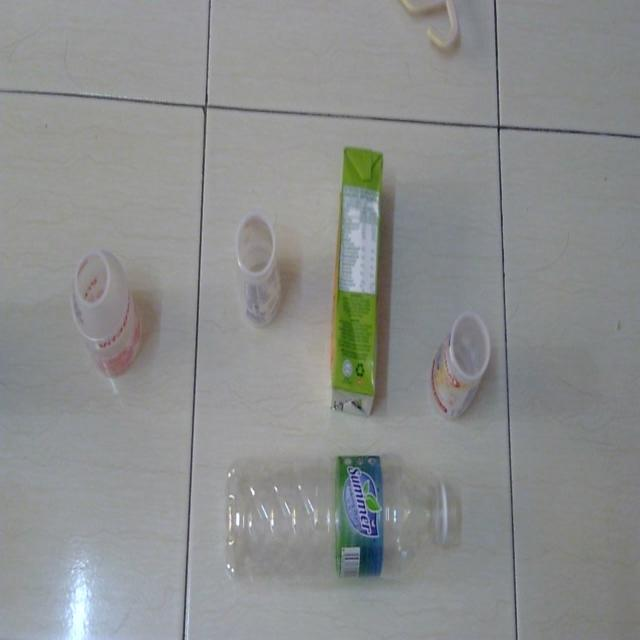plastic_laydown_0rotation: (224, 450, 458, 598)
plastic_laydown_90rotation: (330, 142, 391, 417)
plastic_standrotation: (64, 252, 156, 380), (432, 303, 493, 422), (230, 212, 290, 326)
